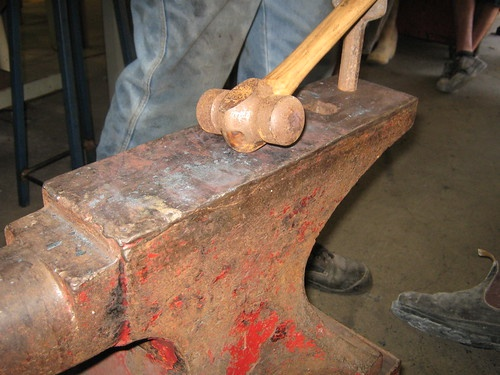hammer: (192, 1, 381, 154)
